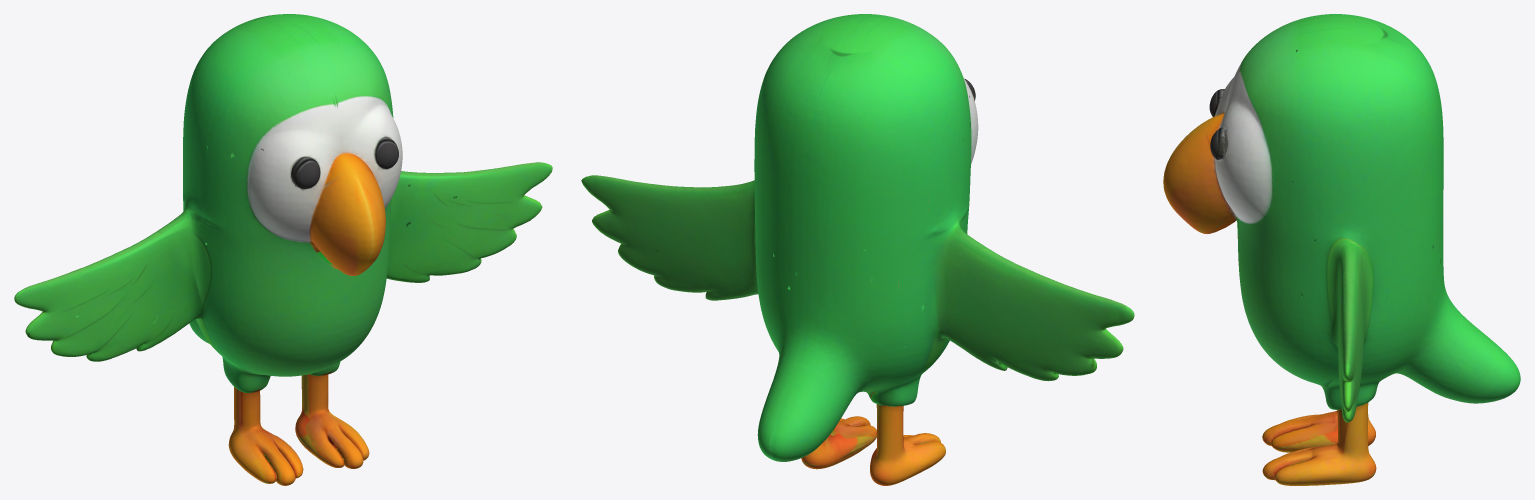
File: PARROT.fbx
The picture shows the model from 3 angles, left to right: view 1: azimuth 30°, elevation 25°; view 2: azimuth 150°, elevation 25°; view 3: azimuth 270°, elevation 25°; orthographic projection. The views are drawn at different scales.
Visible parts, largest first — view 1: Mesh_0.371; view 2: Mesh_0.371; view 3: Mesh_0.371.
Part boxes in pixels (x1,y1,x2,y2): Mesh_0.371: [14, 14, 552, 485]; Mesh_0.371: [581, 14, 1134, 485]; Mesh_0.371: [1163, 14, 1520, 485].
Size of the model in its own units: 197 by 150 by 111.
Materials: 1 (1 with a texture image).
